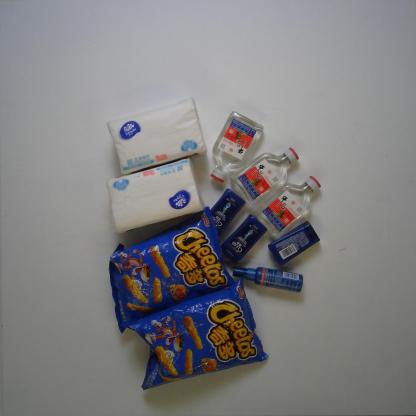Alcohol: (254, 171, 322, 244), (229, 146, 301, 208), (209, 110, 266, 184)
Personal Hygiene: (199, 188, 249, 245), (219, 213, 270, 268), (267, 220, 324, 268), (230, 264, 304, 294)
Puffed Food: (116, 273, 270, 393), (106, 205, 242, 337)
Tissue: (105, 158, 211, 240), (104, 96, 209, 178)
